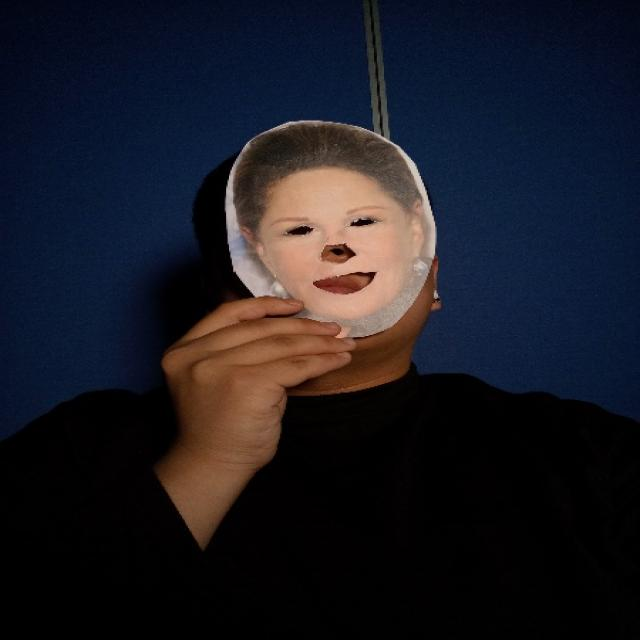mask: (222, 115, 454, 347)
